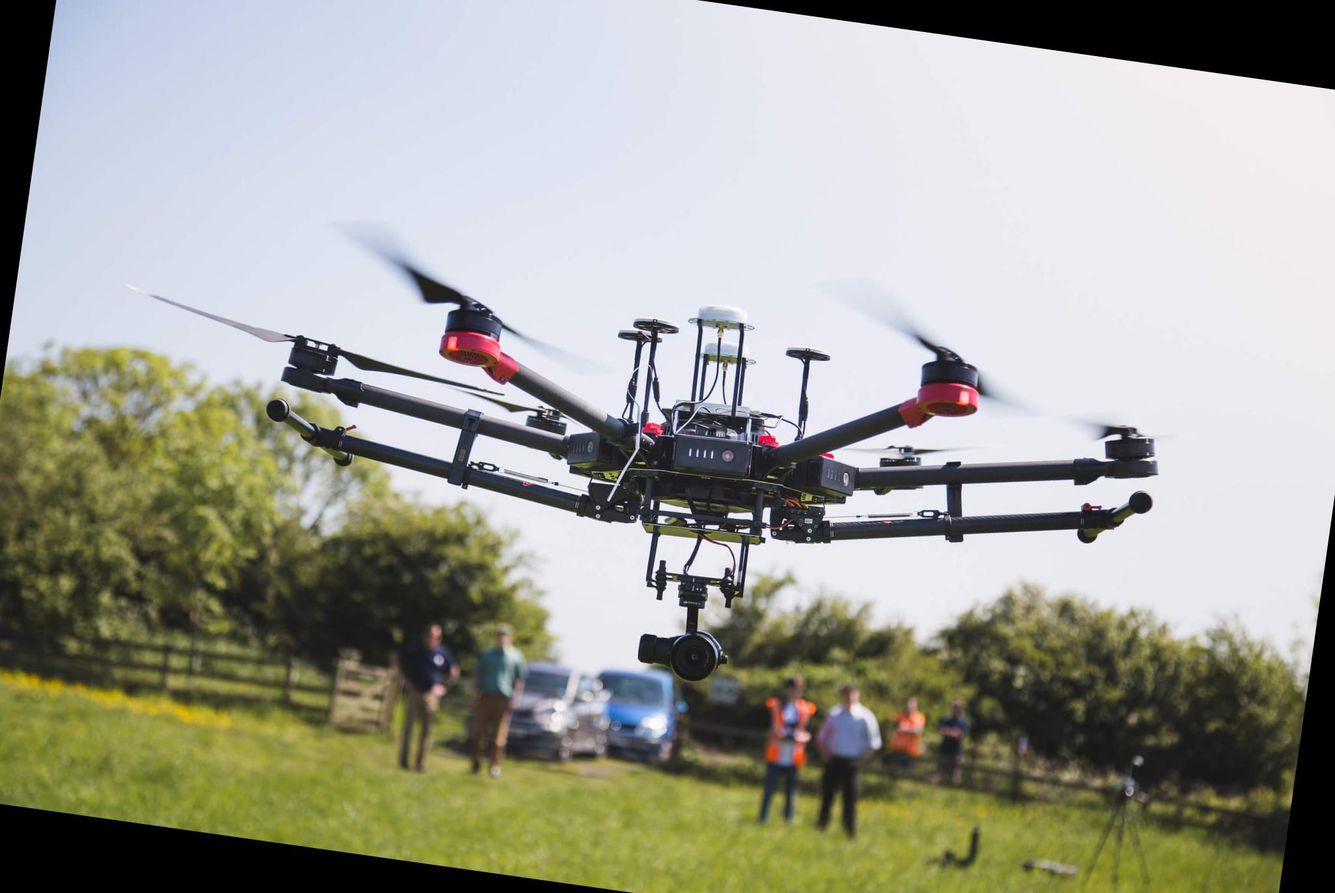drone: (144, 219, 1195, 606)
